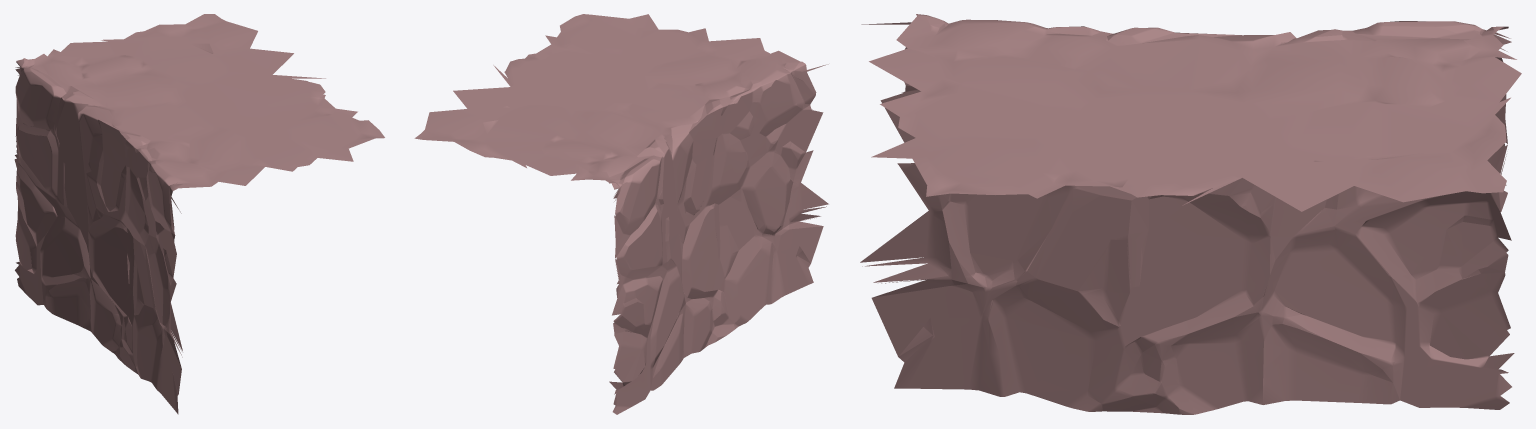
Rendered from pleateauArea1.fbx_PolyShape__46__007LODs.fbx.
The picture shows the model from 3 angles, left to right: view 1: azimuth 30°, elevation 25°; view 2: azimuth 150°, elevation 25°; view 3: azimuth 270°, elevation 25°; orthographic projection. The views are drawn at different scales.
Parts seen in each view (by area): view 1: PolyShape (46).007_LOD0; view 2: PolyShape (46).007_LOD0; view 3: PolyShape (46).007_LOD0.
Part boxes in pixels (box(x1,y1,x2,y2)): PolyShape (46).007_LOD0: box(14, 14, 384, 414); PolyShape (46).007_LOD0: box(414, 14, 828, 414); PolyShape (46).007_LOD0: box(860, 14, 1521, 414).
Size of what is drawn, in the model's own units: 4638 by 4172 by 6426.
